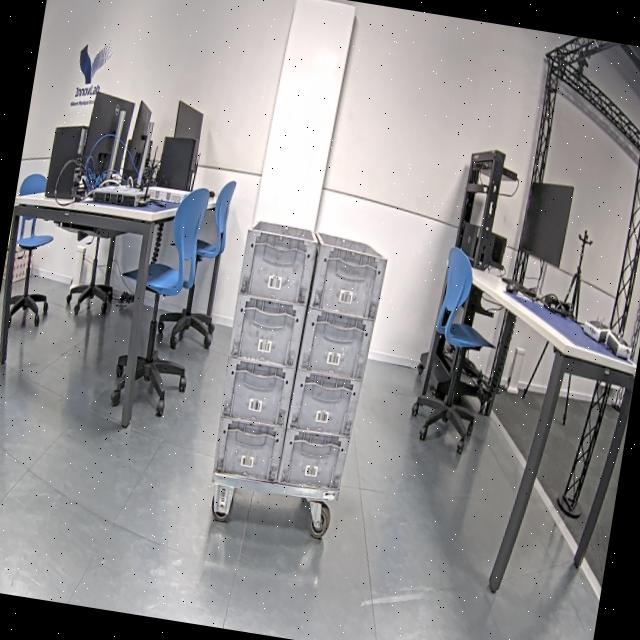Box8G: (304, 229, 391, 322), (236, 217, 322, 311), (228, 295, 308, 370), (296, 310, 376, 382), (288, 368, 366, 441), (219, 358, 297, 428), (277, 428, 351, 495), (210, 418, 286, 483)
